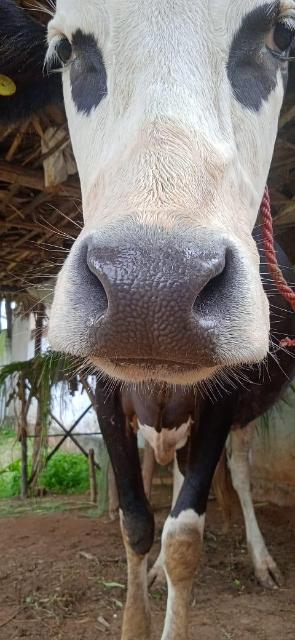Muzzle: (80, 233, 216, 365)
